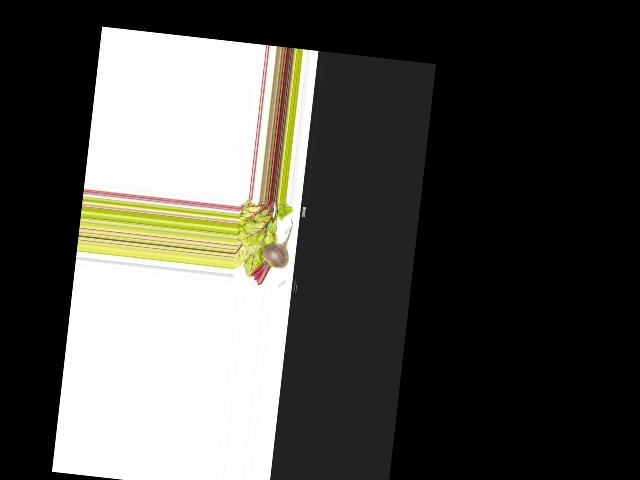beet: (250, 215, 293, 288)
